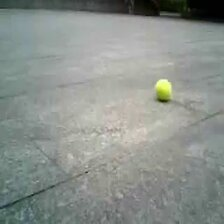tennis: (155, 79, 172, 100)
